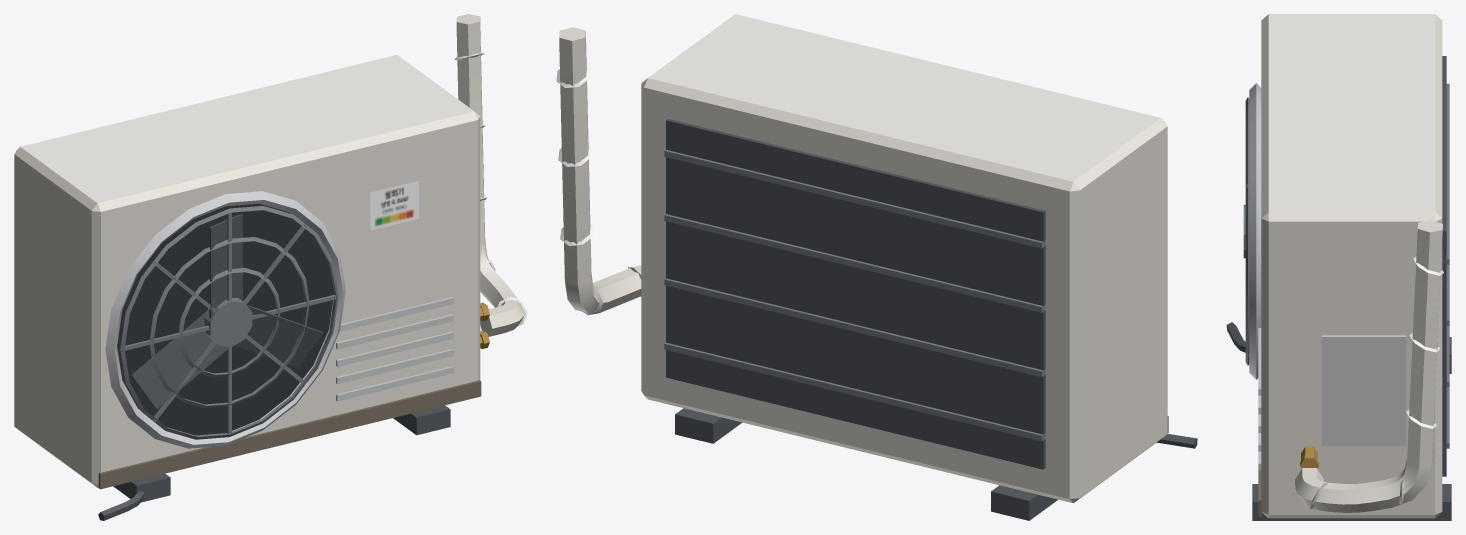
Rendered from SC_Util_AC_Unit_Ground.gltf.
3 renders of one model, left to right at view 1: azimuth 30°, elevation 25°; view 2: azimuth 150°, elevation 25°; view 3: azimuth 270°, elevation 25°, orthographic. The views are drawn at different scales.
Parts seen in each view (by area): view 1: SC_Util_AC_Unit_Ground; view 2: SC_Util_AC_Unit_Ground; view 3: SC_Util_AC_Unit_Ground.
Part boxes in pixels (x1,y1,x2,y2): SC_Util_AC_Unit_Ground: (14,14,527,520); SC_Util_AC_Unit_Ground: (556,14,1197,520); SC_Util_AC_Unit_Ground: (1226,14,1451,520).
Size of the model in its own units: 0.9768 by 0.6359 by 0.3727.
Materials: 2 (2 with a texture image).
